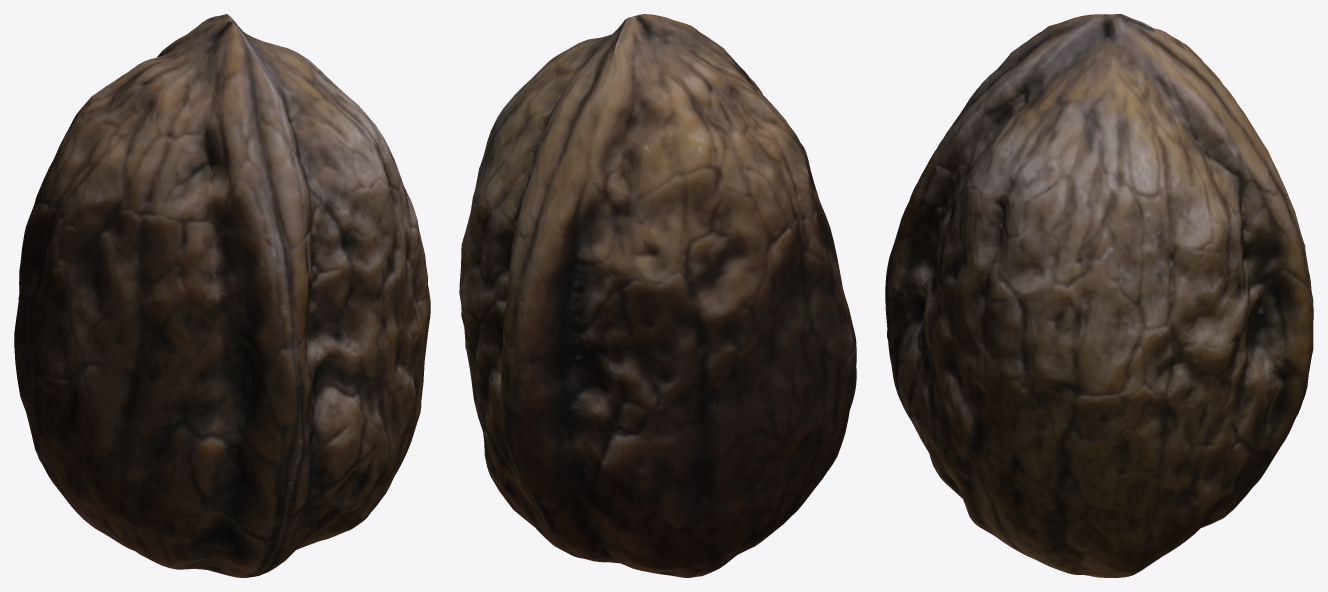
The model's file is walnut.fbx.
3 renders of one model, left to right at view 1: azimuth 30°, elevation 25°; view 2: azimuth 150°, elevation 25°; view 3: azimuth 270°, elevation 25°, orthographic.
Parts seen in each view (by area): view 1: sculpt; view 2: sculpt; view 3: sculpt.
Part boxes in pixels (box(x1,y1,x2,y2)): sculpt: box(14, 14, 430, 577); sculpt: box(459, 14, 856, 577); sculpt: box(885, 14, 1313, 577).
Bounding box in the file's own units: 19.24 × 27.02 × 19.19.
